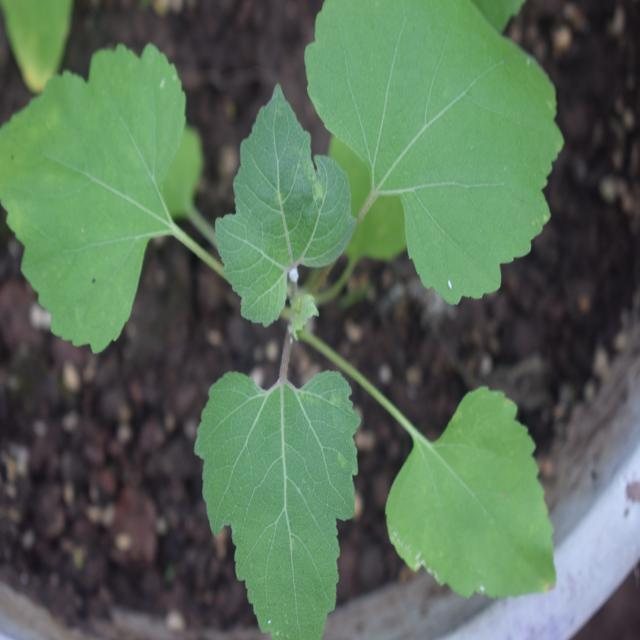cocklebur: (17, 21, 546, 579)
